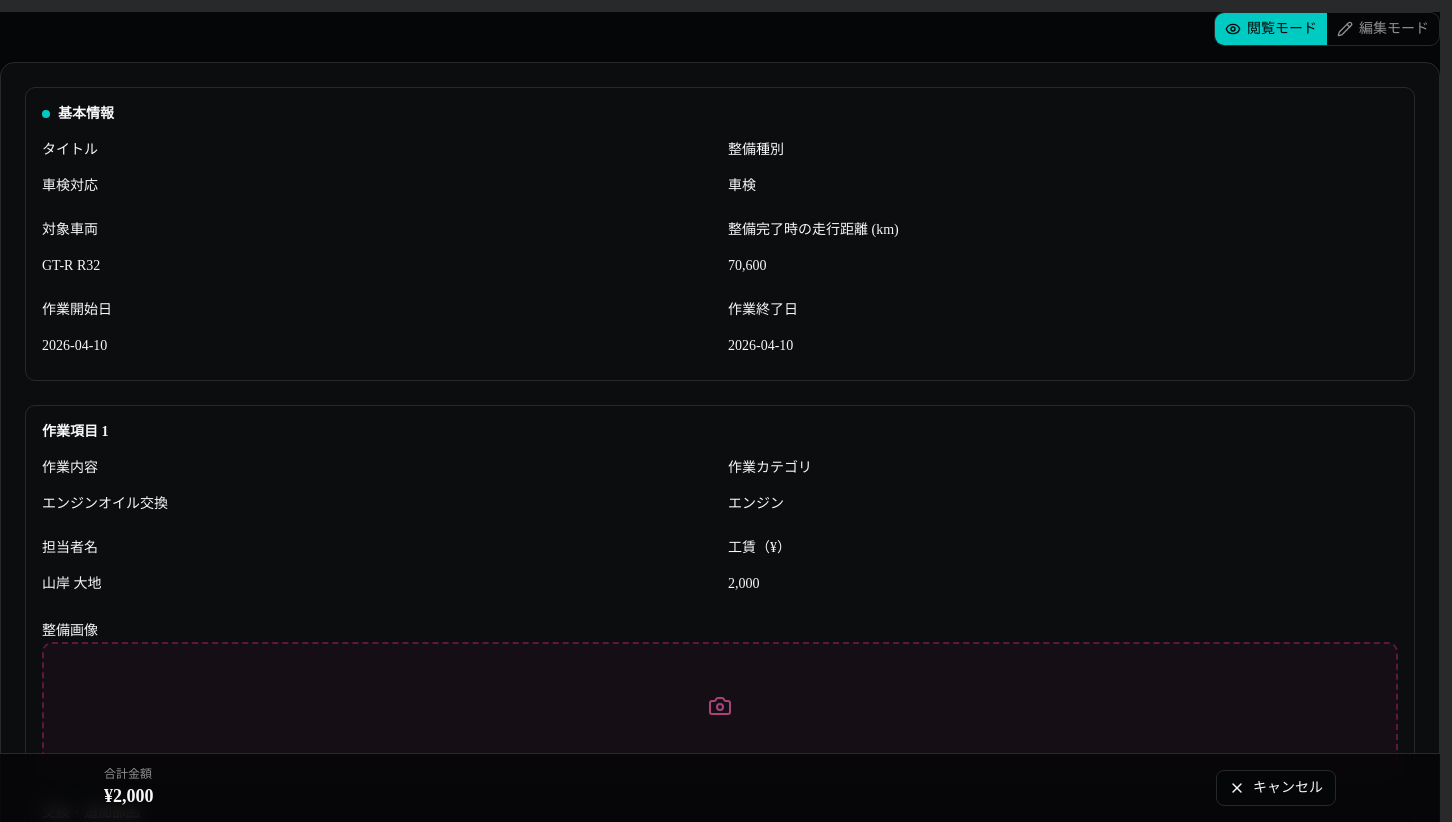
Scenario: MaintenanceRecordDetailContent › 編集モードで保存するとupdateMaintenanceRecordが呼ばれ閲覧モードへ戻る
The width and height of the screenshot is (1452, 822).
Click the button "編集モード": click(1383, 29) x1=1327 y1=13 x2=1439 y2=45
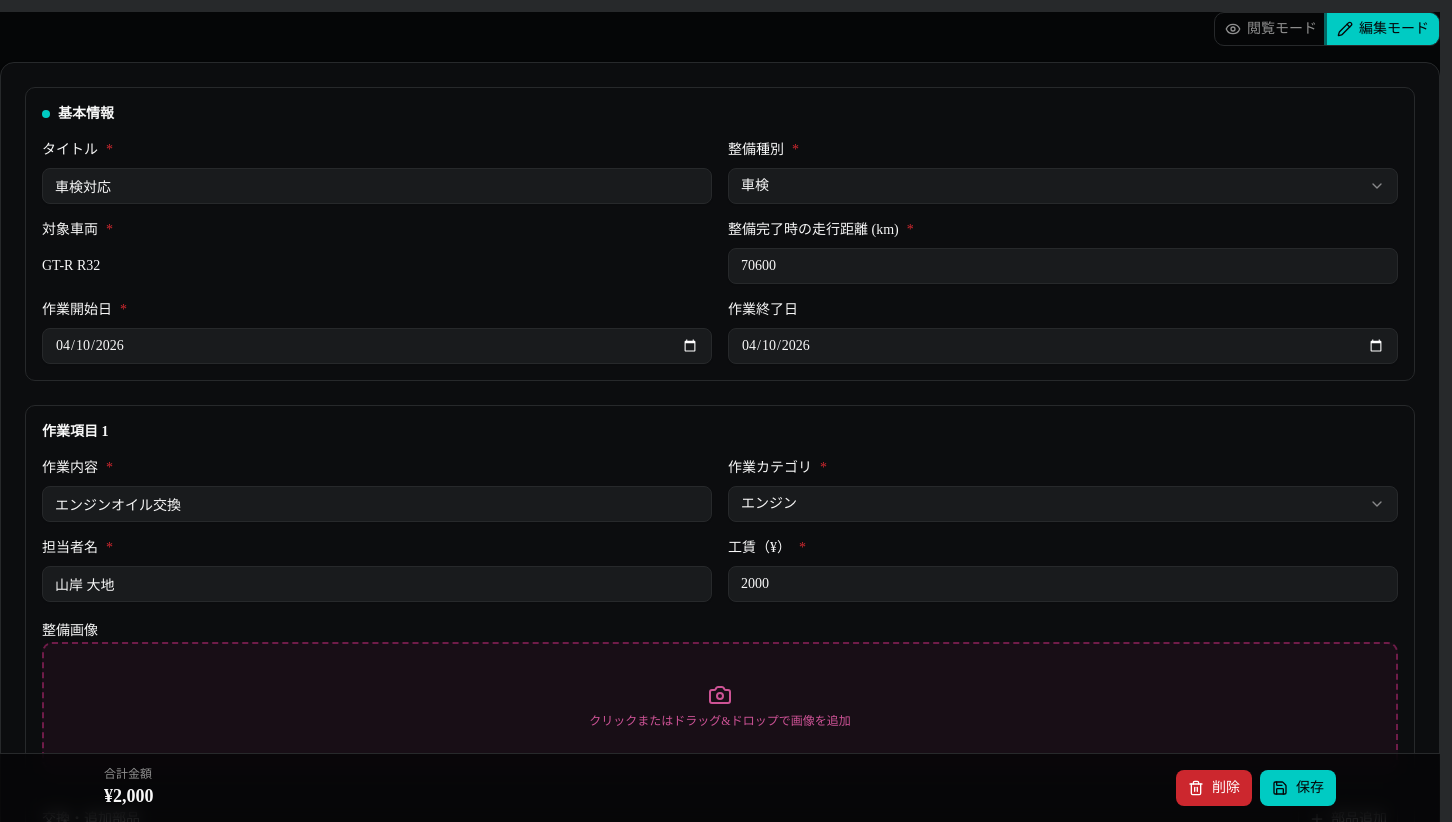
Replace the text in the field with placeholder "例：車検対応、オイル交換" with "車検対応（更新後）": (377, 186) x1=42 y1=168 x2=712 y2=204
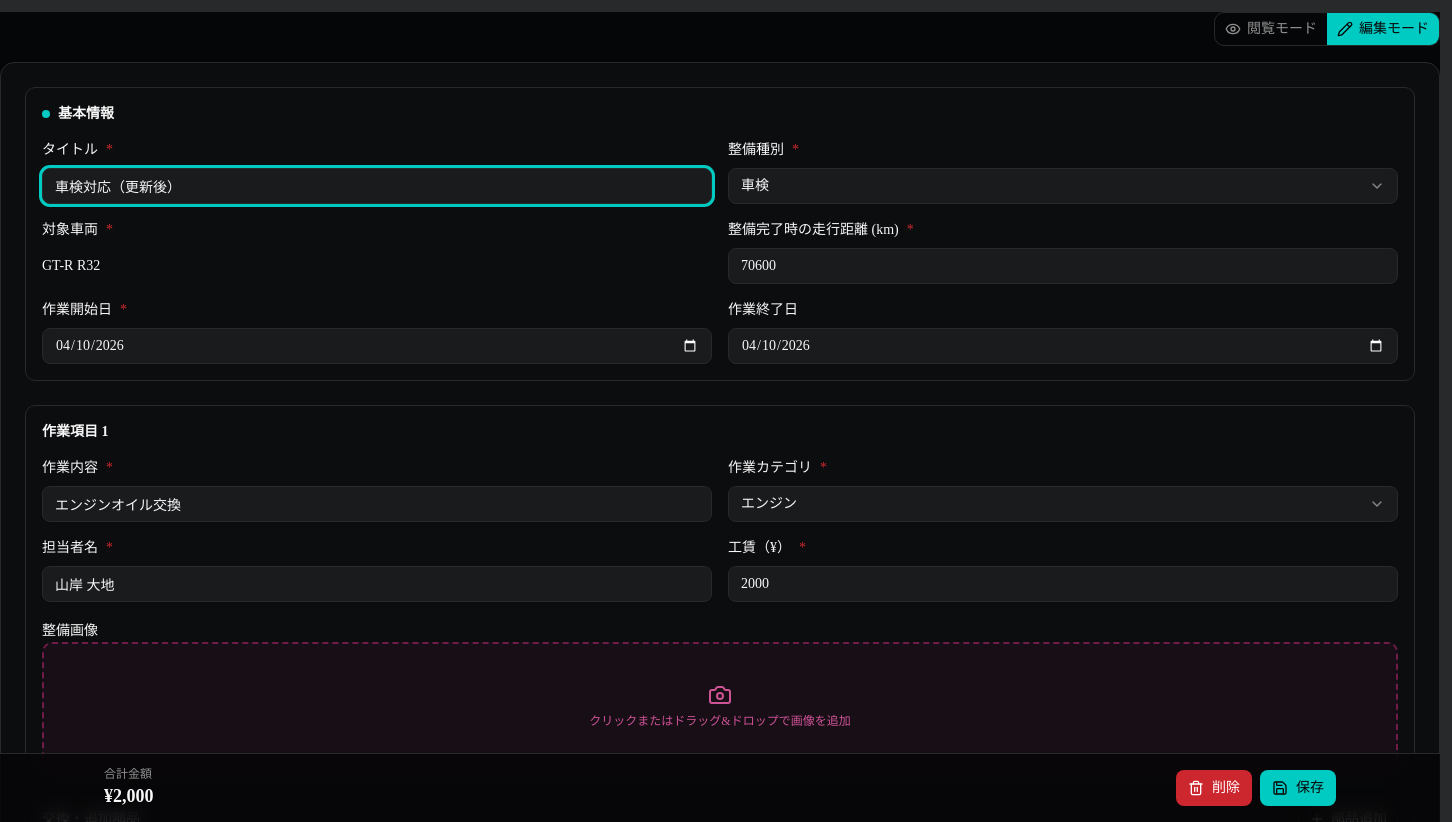
Click the button "保存": click(1298, 788) x1=1260 y1=770 x2=1336 y2=806
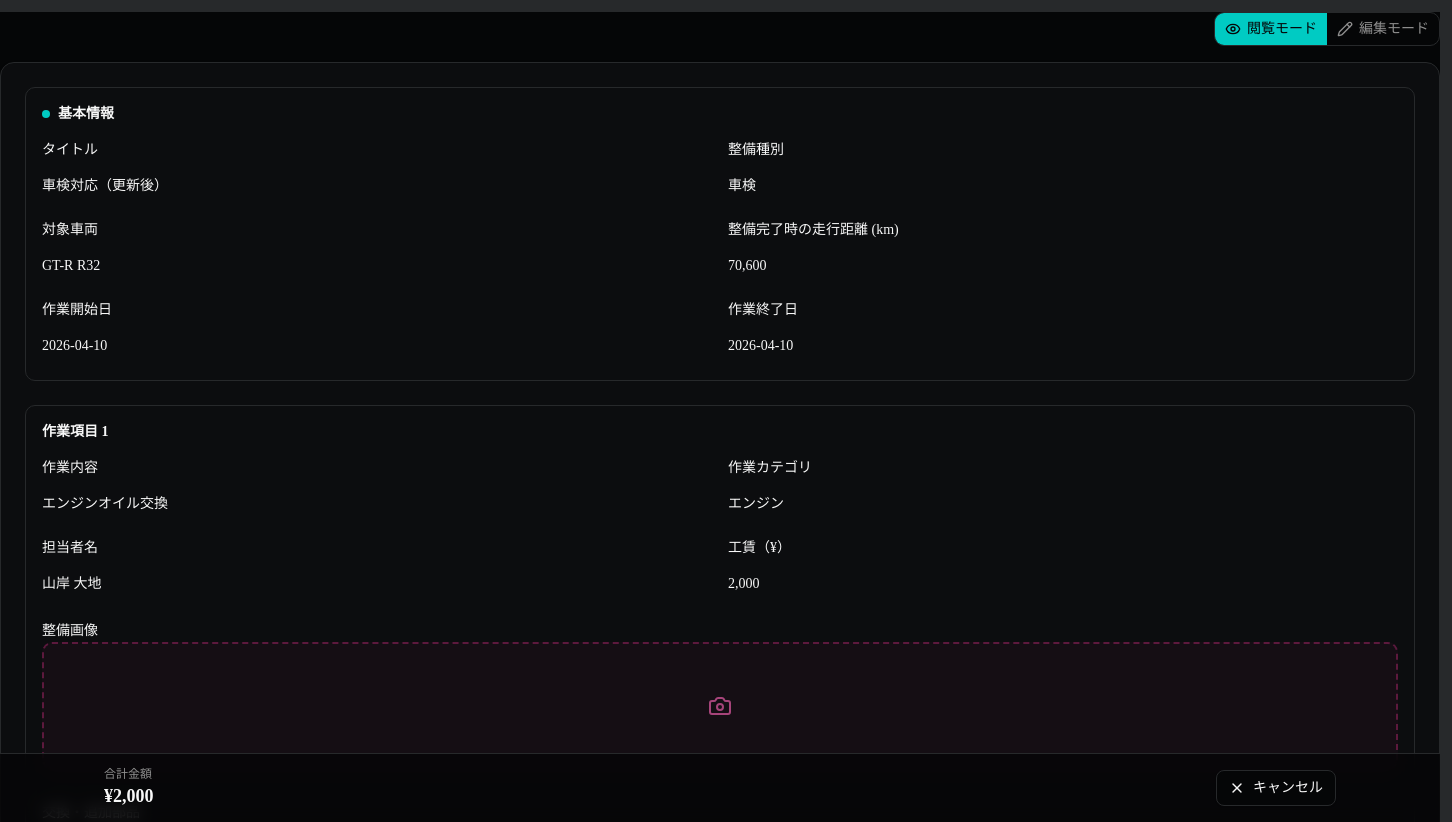
Check: the field with placeholder "例：車検対応、オイル交換" is gone
Check: the text "車検対応（更新後）" is shown, box x1=42 y1=178 x2=168 y2=193
